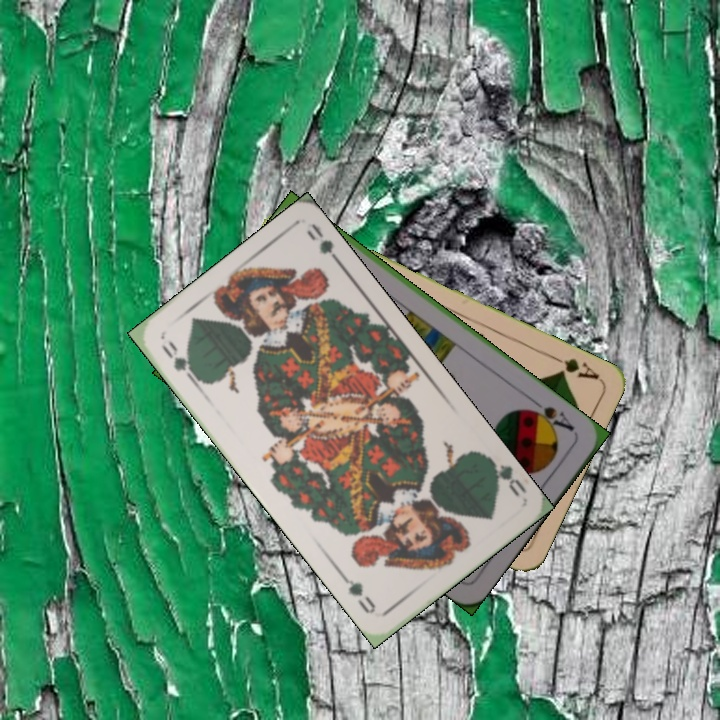GA: (546, 350, 602, 383)
GO: (157, 336, 204, 387), (482, 452, 530, 500)
SA: (522, 395, 578, 435)
